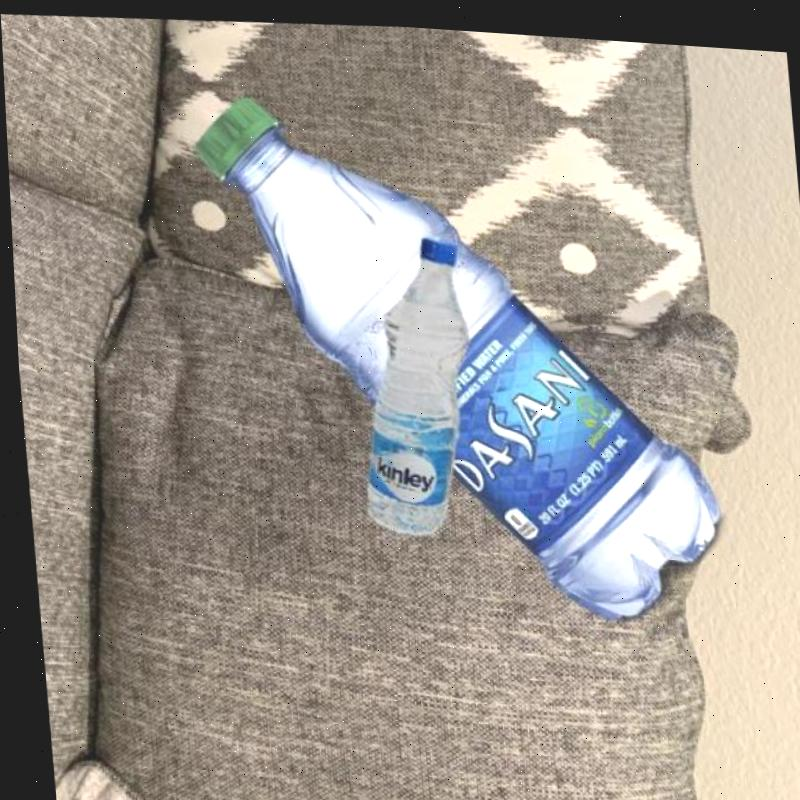botella: (193, 78, 719, 626), (337, 223, 479, 533)
